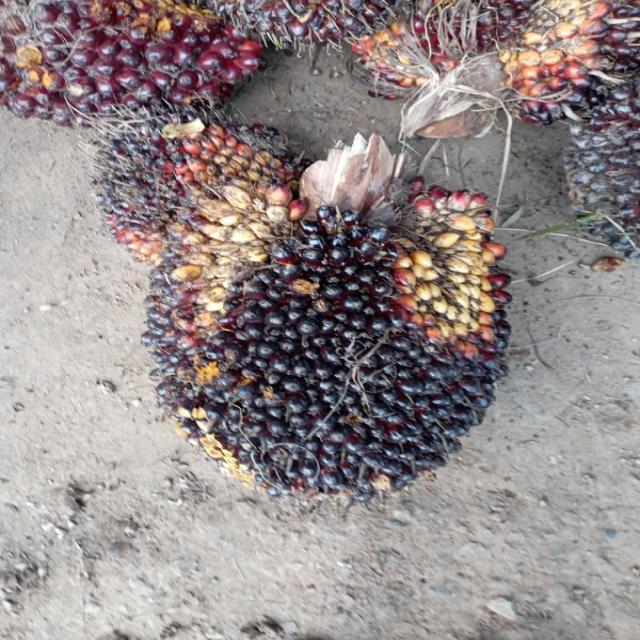fraksi 00: (142, 172, 514, 500), (81, 118, 311, 258)
